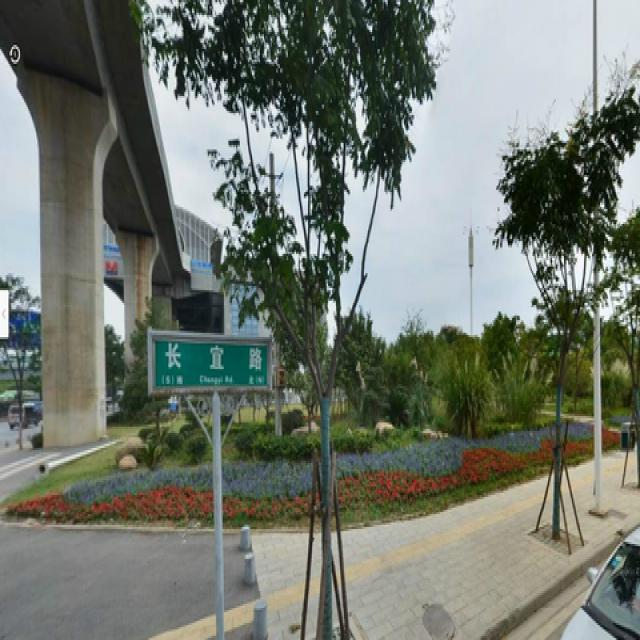koel: (498, 74, 638, 540)
